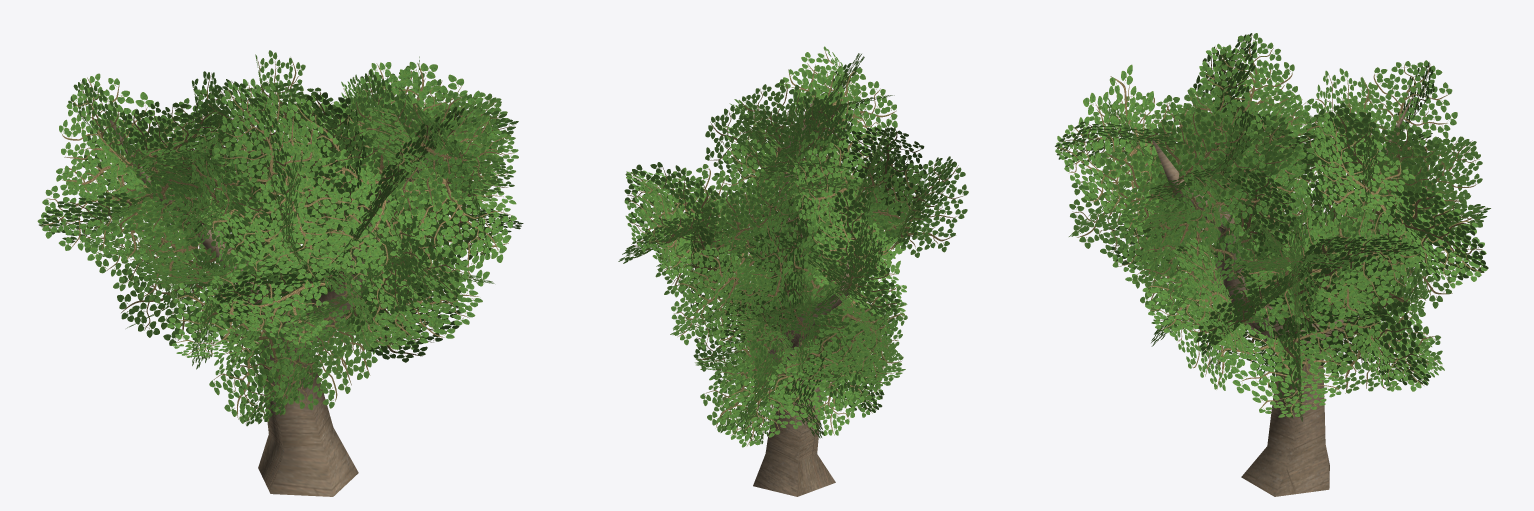
File: Tree.fbx
3 views of the same model, side by side, from view 1: azimuth 30°, elevation 25°; view 2: azimuth 150°, elevation 25°; view 3: azimuth 270°, elevation 25° (orthographic). The views are drawn at different scales.
Visible parts, largest first — view 1: Tree; view 2: Tree; view 3: Tree.
Boxes of the visible parts, box(x1,y1,x2,y2) form: Tree: box(37, 50, 523, 496); Tree: box(618, 46, 968, 496); Tree: box(1055, 33, 1490, 496).
Size of the model in its own units: 424 by 412 by 420.
1 material, 1 textured.
